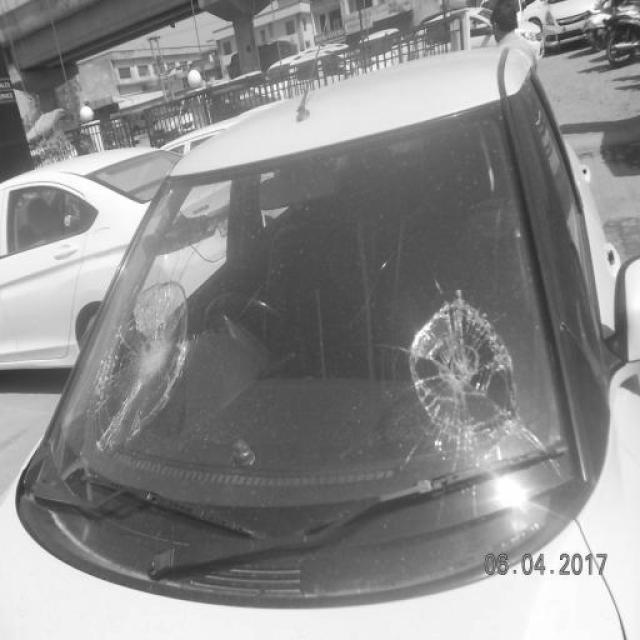crack: (410, 299, 516, 453), (94, 285, 186, 444)
